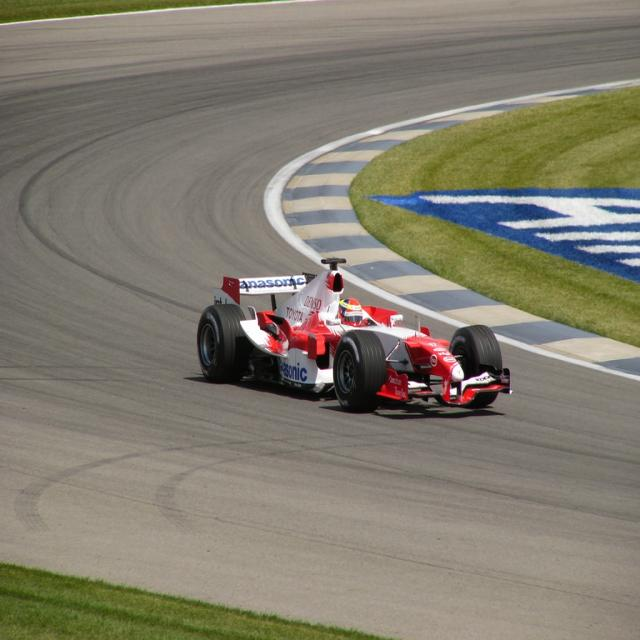car: (199, 258, 510, 409)
